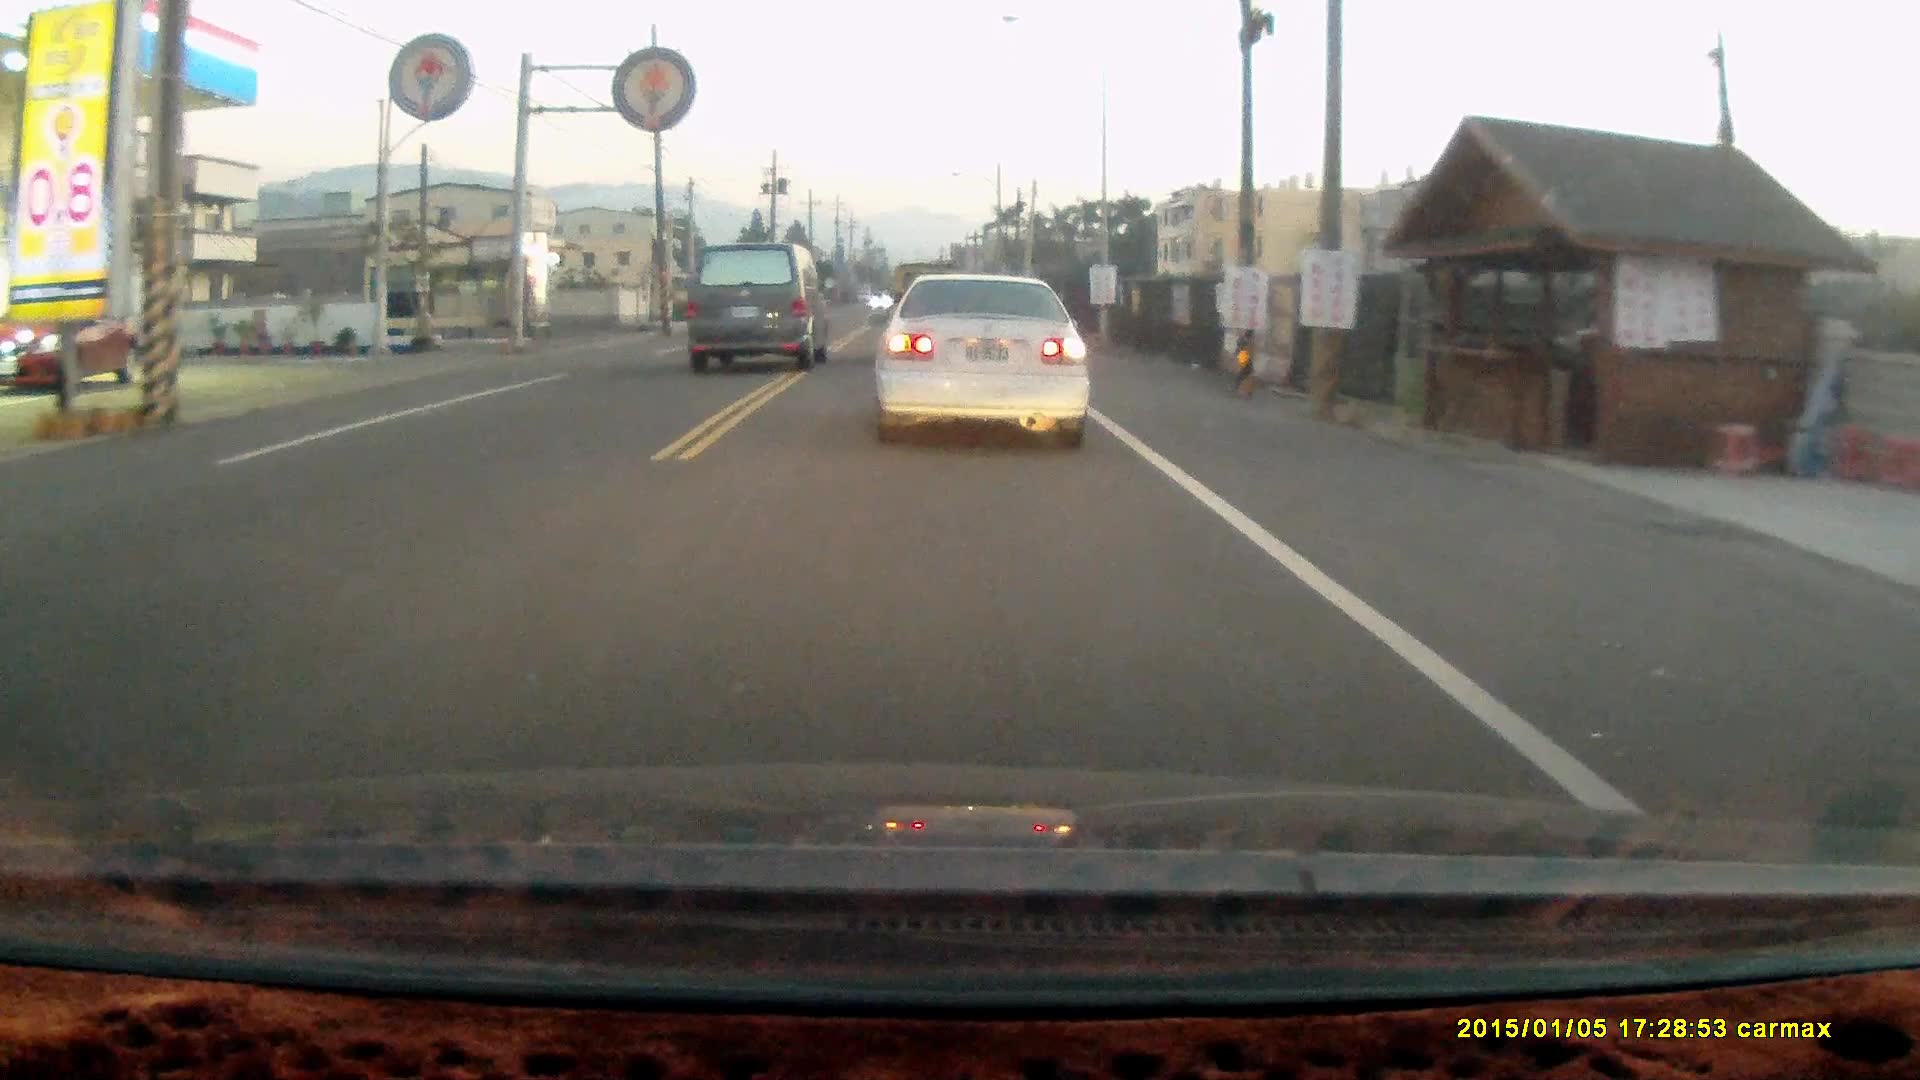vehicle: (868, 266, 1095, 455), (682, 243, 833, 375), (8, 293, 152, 396)
